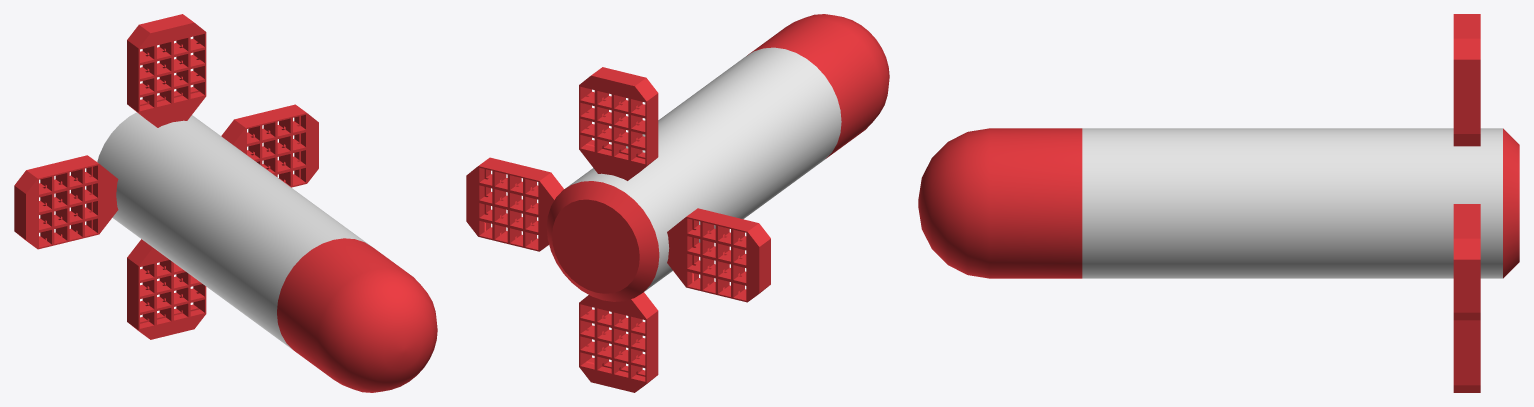
File: bomb.glb
The picture shows the model from 3 angles, left to right: view 1: azimuth 30°, elevation 25°; view 2: azimuth 150°, elevation 25°; view 3: azimuth 270°, elevation 25°; orthographic projection. The views are drawn at different scales.
Visible parts, largest first — view 1: Cylinder, Cube; view 2: Cylinder, Cube; view 3: Cylinder, Cube.
Boxes of the visible parts, x1,y1,x2,y2 form: Cylinder: [97, 112, 437, 392]; Cube: [14, 14, 318, 339]; Cylinder: [546, 14, 889, 301]; Cube: [466, 67, 770, 392]; Cylinder: [918, 128, 1519, 278]; Cube: [1453, 14, 1480, 392].
Size of the model in its own units: 5.2 by 5.2 by 8.
